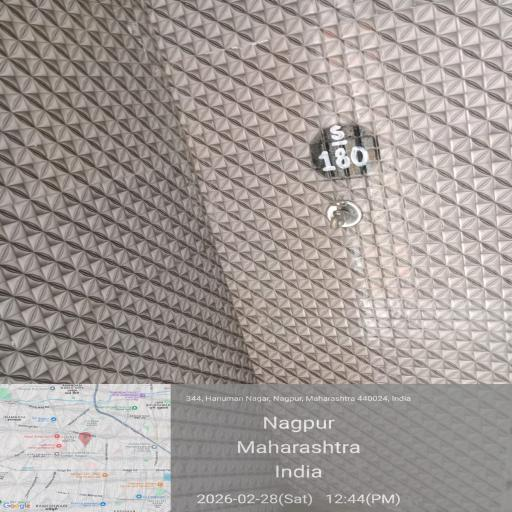clean_floor: (0, 0, 512, 392)
